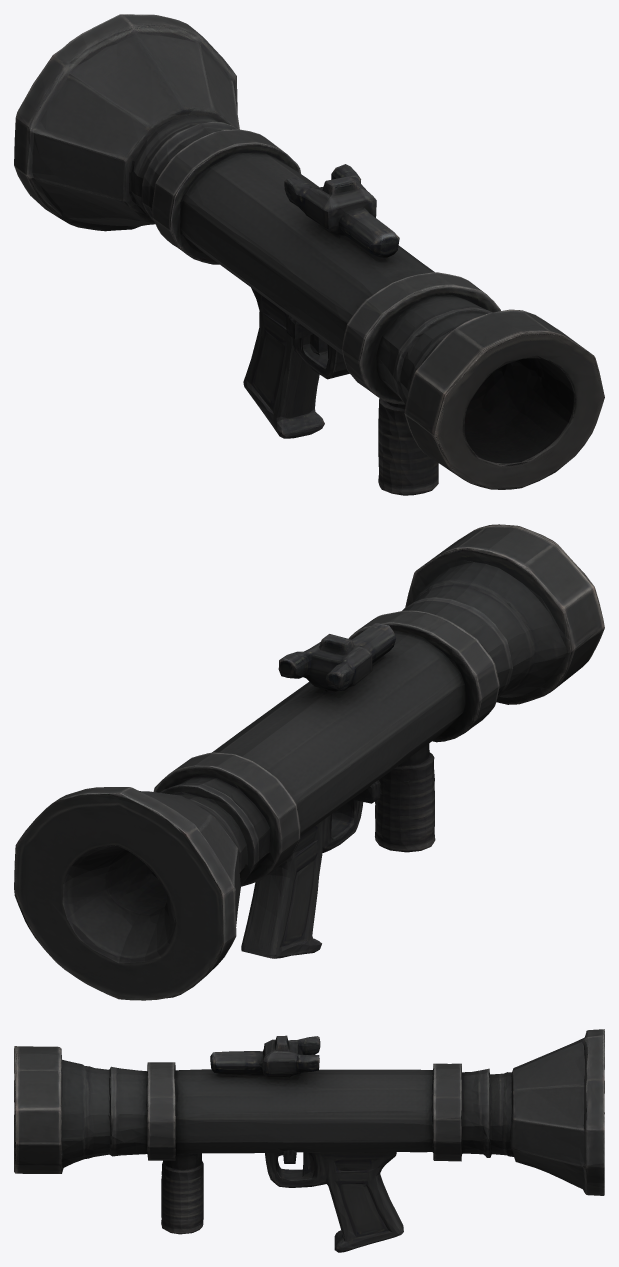
Rendered from weapon-rocket-launcher.glb.
3 renders of one model, top to bottom at view 1: azimuth 30°, elevation 25°; view 2: azimuth 150°, elevation 25°; view 3: azimuth 270°, elevation 25°, orthographic. The views are drawn at different scales.
Parts seen in each view (by area): view 1: world; view 2: world; view 3: world.
Boxes of the visible parts, <box> form: world: <box>14,14,604,495</box>; world: <box>14,524,604,1000</box>; world: <box>14,1029,604,1252</box>.
Size of the model in its own units: 0.3054 by 0.3947 by 1.
Materials: 1 (1 with a texture image).
